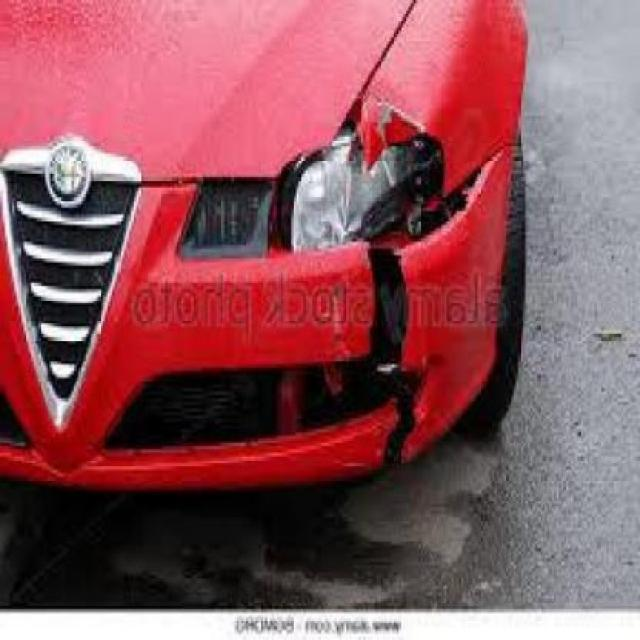damage: (258, 84, 491, 468)
